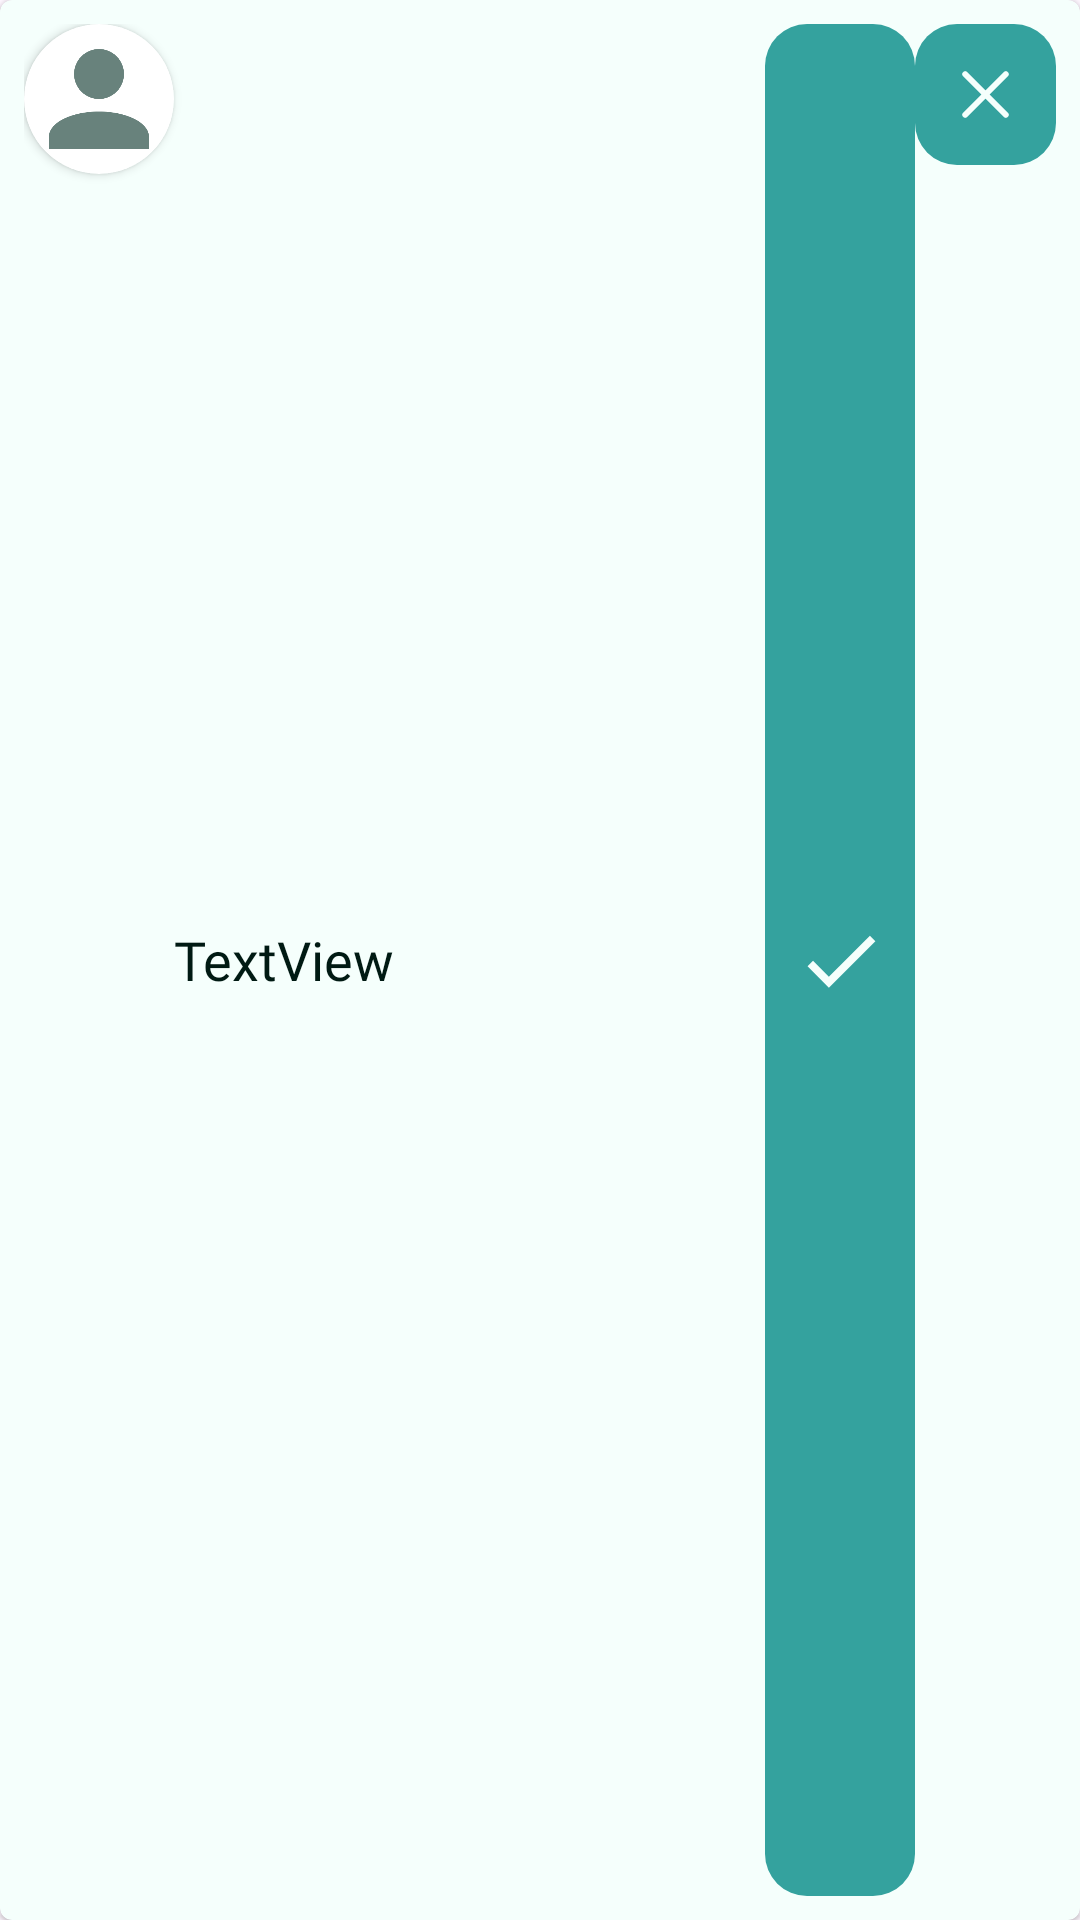

Named icons in this screenshot (1080 x 1920) and their bounding boxes, (x1, y1, x2, y2):
cancel: (962, 71, 1009, 118)
tick: (807, 936, 876, 988)
user: (24, 24, 174, 174)
